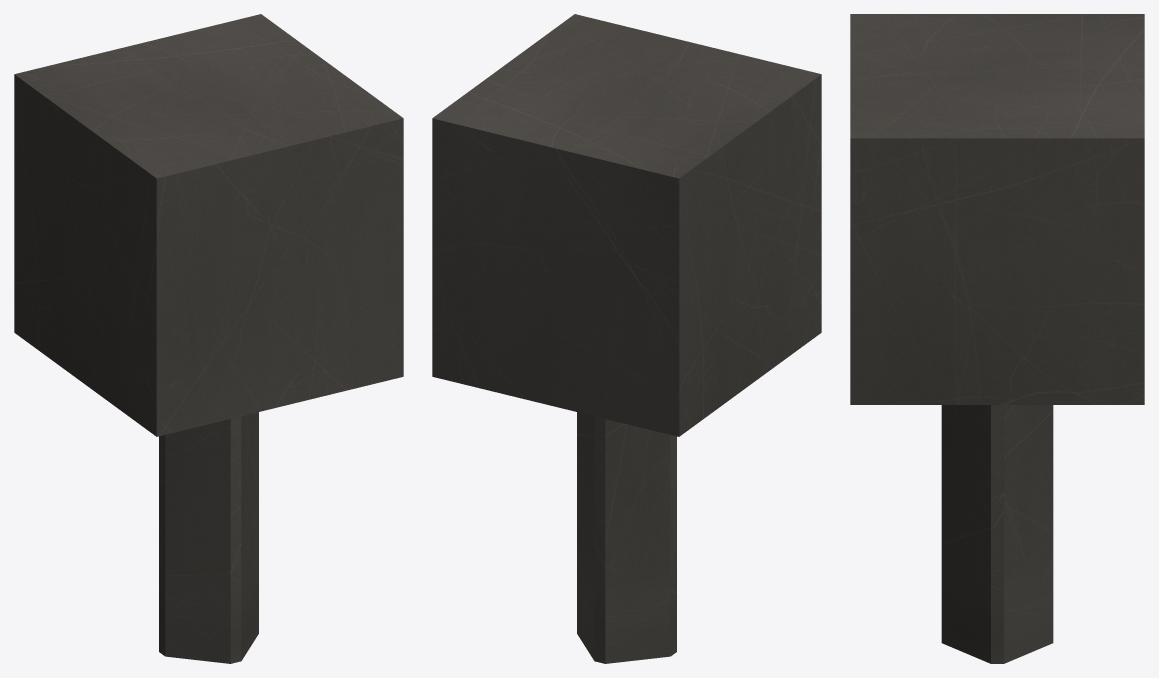
Rendered from LightCable_Bake.fbx.
The picture shows the model from 3 angles, left to right: view 1: azimuth 30°, elevation 25°; view 2: azimuth 150°, elevation 25°; view 3: azimuth 270°, elevation 25°; orthographic projection. The views are drawn at different scales.
Parts seen in each view (by area): view 1: LightCable_Bake; view 2: LightCable_Bake; view 3: LightCable_Bake.
Boxes of the visible parts, x1,y1,x2,y2 form: LightCable_Bake: (14,14,403,663); LightCable_Bake: (432,14,821,663); LightCable_Bake: (850,14,1144,663).
Bounding box in the file's own units: 10 × 10 × 21.15.
1 material, 1 textured.
